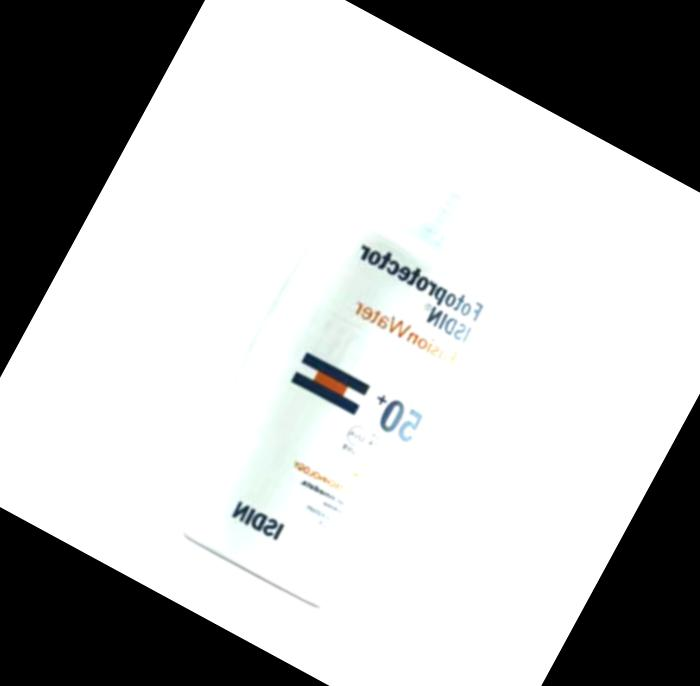cosmetic: (151, 98, 572, 625)
